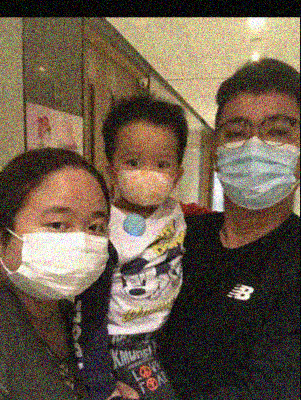with_mask: (4, 202, 109, 304), (214, 111, 300, 212), (114, 147, 179, 209)
